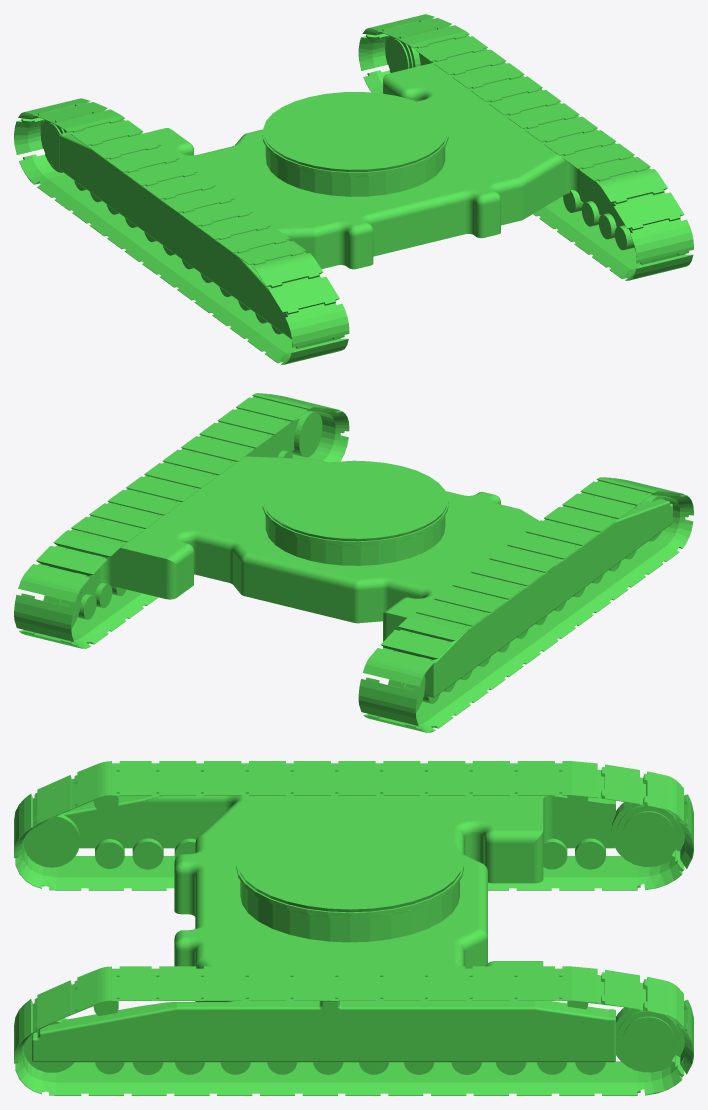
The model's file is crawler1.obj.
The picture shows the model from 3 angles, top to bottom: view 1: azimuth 30°, elevation 25°; view 2: azimuth 150°, elevation 25°; view 3: azimuth 270°, elevation 25°; orthographic projection. The views are drawn at different scales.
Visible parts, largest first — view 1: Imported1_DC_Shell; view 2: Imported1_DC_Shell; view 3: Imported1_DC_Shell.
Part boxes in pixels (bbox=[...]): Imported1_DC_Shell: bbox=[14, 14, 693, 364]; Imported1_DC_Shell: bbox=[14, 393, 693, 732]; Imported1_DC_Shell: bbox=[14, 761, 693, 1095].
Size of the model in its own units: 379 by 84.42 by 455.
